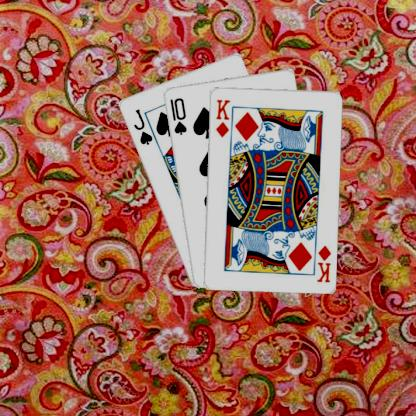10S: (167, 95, 188, 136)
JS: (130, 106, 154, 146)
KD: (212, 96, 231, 138), (314, 242, 332, 284)
